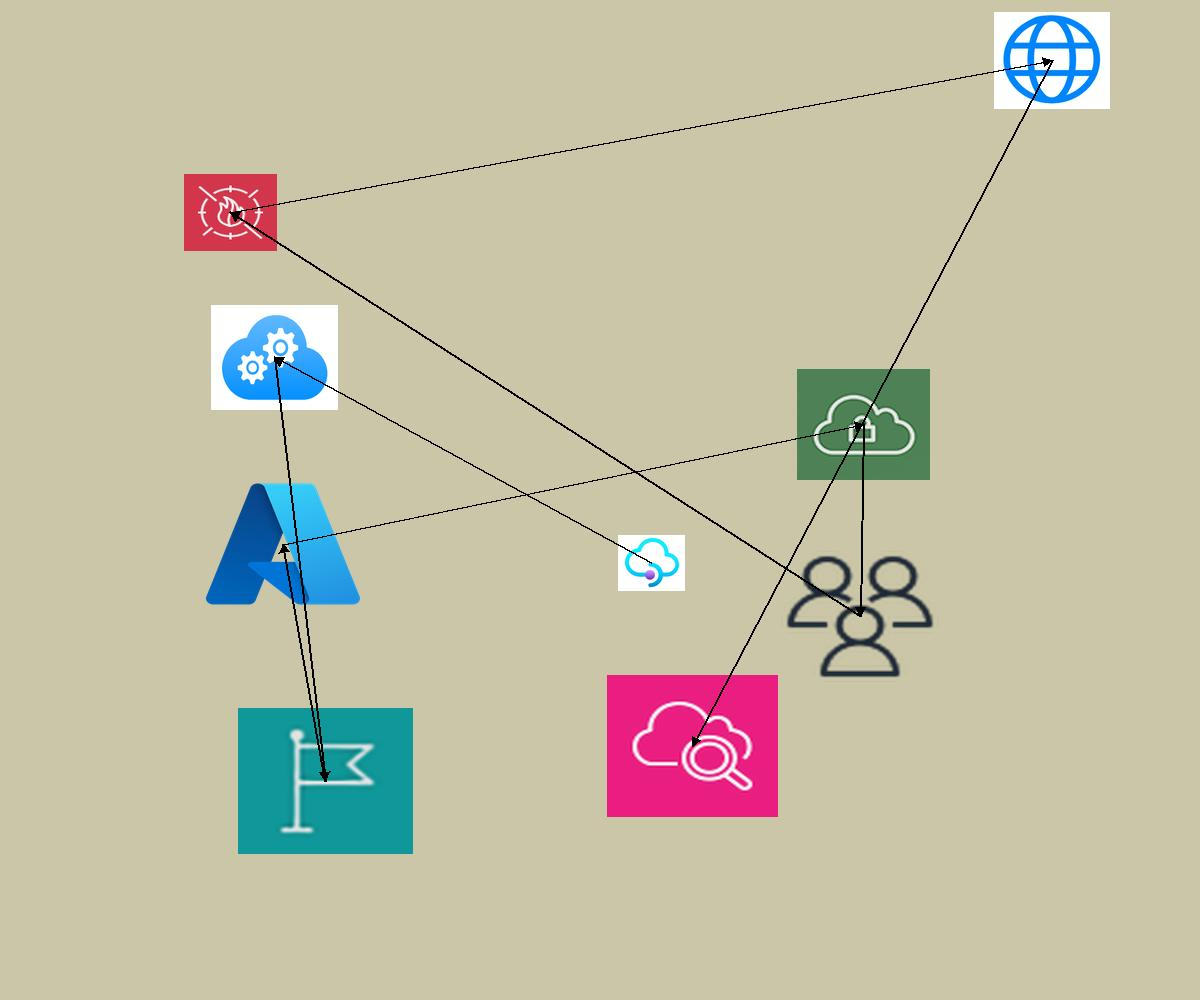AWS-CloudWatch: (607, 675, 778, 817)
AWS-Private_vpc: (797, 369, 930, 480)
AWS-Region: (238, 708, 413, 854)
AWS-Res_Users: (781, 551, 939, 682)
AWS-WAF: (184, 174, 277, 251)
Azure_api_gateway: (618, 535, 685, 591)
Azure_cloud_services: (211, 305, 338, 410)
Azure_http: (994, 12, 1110, 109)
Azure_services: (199, 474, 367, 614)
